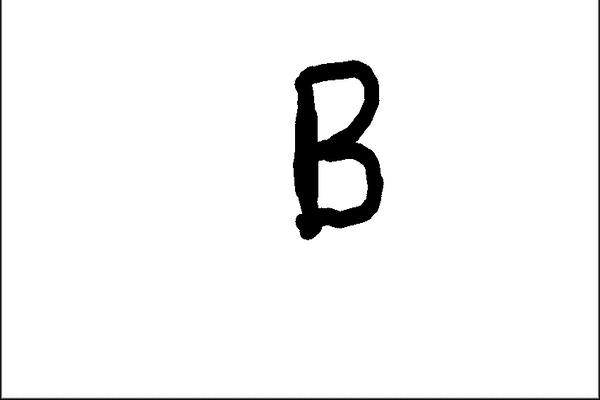B: (278, 50, 394, 244)
